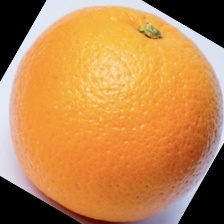orange: (28, 18, 184, 176)
